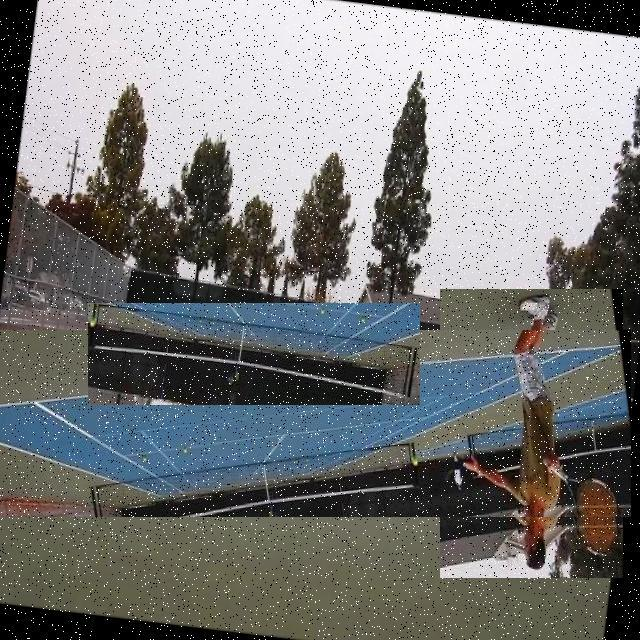court: (0, 330, 631, 517)
net: (88, 303, 420, 405)
player: (440, 289, 623, 578)
